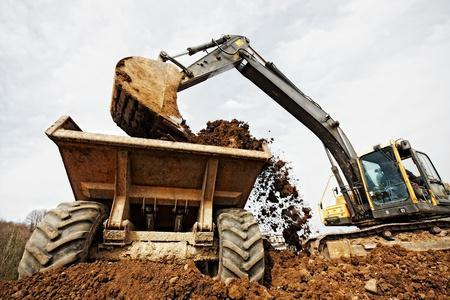EXCAVATORS: (111, 31, 449, 276)
dump truck: (18, 111, 279, 288)
